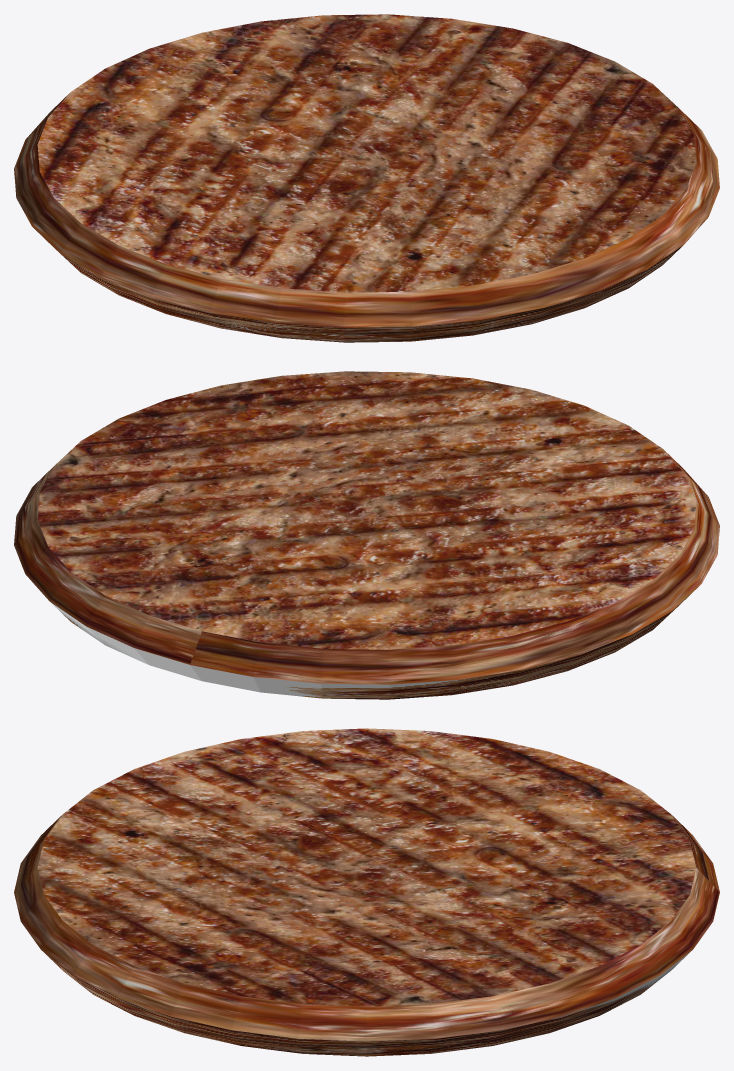
The model's file is carne.obj.
3 views of the same model, one above another, from view 1: azimuth 30°, elevation 25°; view 2: azimuth 150°, elevation 25°; view 3: azimuth 270°, elevation 25° (orthographic).
Parts seen in each view (by area): view 1: Cilindro.012; view 2: Cilindro.012; view 3: Cilindro.012.
Boxes of the visible parts, bbox=[...] form: Cilindro.012: bbox=[14, 14, 719, 342]; Cilindro.012: bbox=[14, 371, 719, 699]; Cilindro.012: bbox=[14, 728, 719, 1056].
Size of the model in its own units: 0.18 by 0.014 by 0.18.
